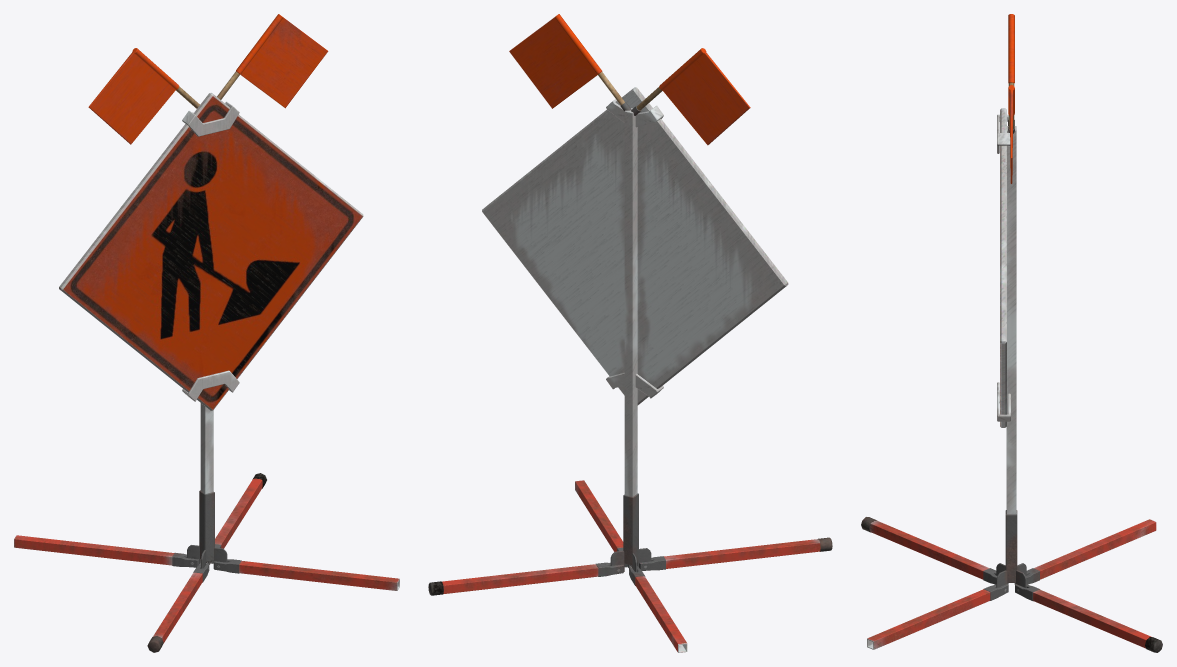
The model's file is construction_sign.glb.
3 renders of one model, left to right at view 1: azimuth 30°, elevation 25°; view 2: azimuth 150°, elevation 25°; view 3: azimuth 270°, elevation 25°, orthographic.
Visible parts, largest first — view 1: polySurface47; view 2: polySurface47; view 3: polySurface47.
Boxes of the visible parts, x1,y1,x2,y2 form: polySurface47: [14, 14, 399, 652]; polySurface47: [428, 14, 832, 652]; polySurface47: [861, 14, 1162, 652].
Size of the model in its own units: 1.18 by 2 by 1.01.
Materials: 1 (1 with a texture image).
